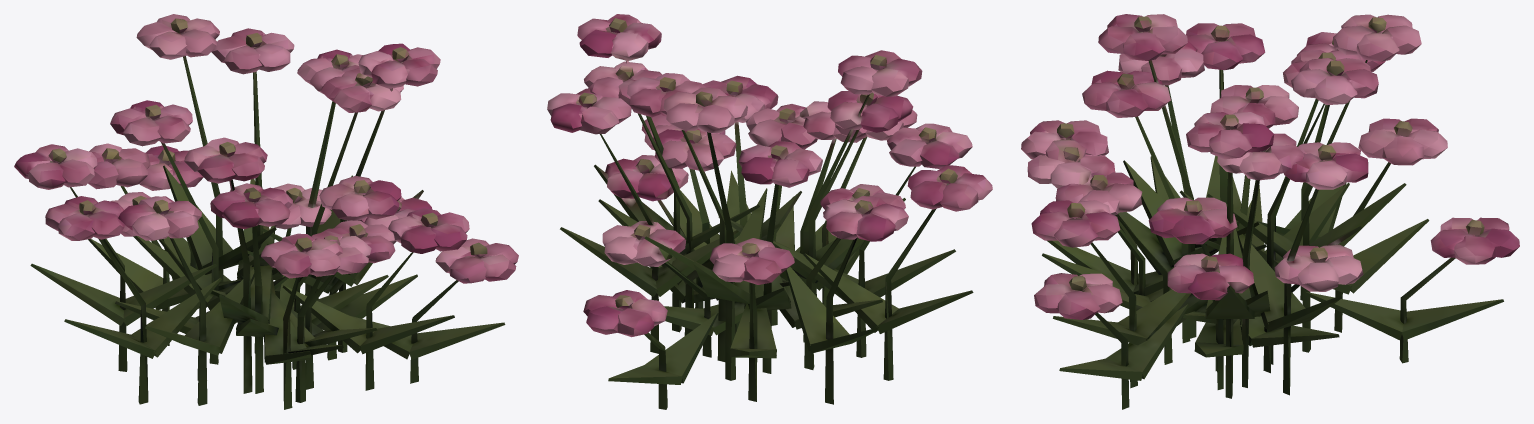
Rendered from flowers.glb.
3 renders of one model, left to right at view 1: azimuth 30°, elevation 25°; view 2: azimuth 150°, elevation 25°; view 3: azimuth 270°, elevation 25°, orthographic. The views are drawn at different scales.
Visible parts, largest first — view 1: flowers; view 2: flowers; view 3: flowers.
Part boxes in pixels (box(x1,y1,x2,y2)): flowers: box(14, 14, 518, 409); flowers: box(547, 14, 992, 409); flowers: box(1021, 14, 1519, 409).
Size of the model in its own units: 0.6894 by 0.5083 by 0.7005.
1 material, 1 textured.
